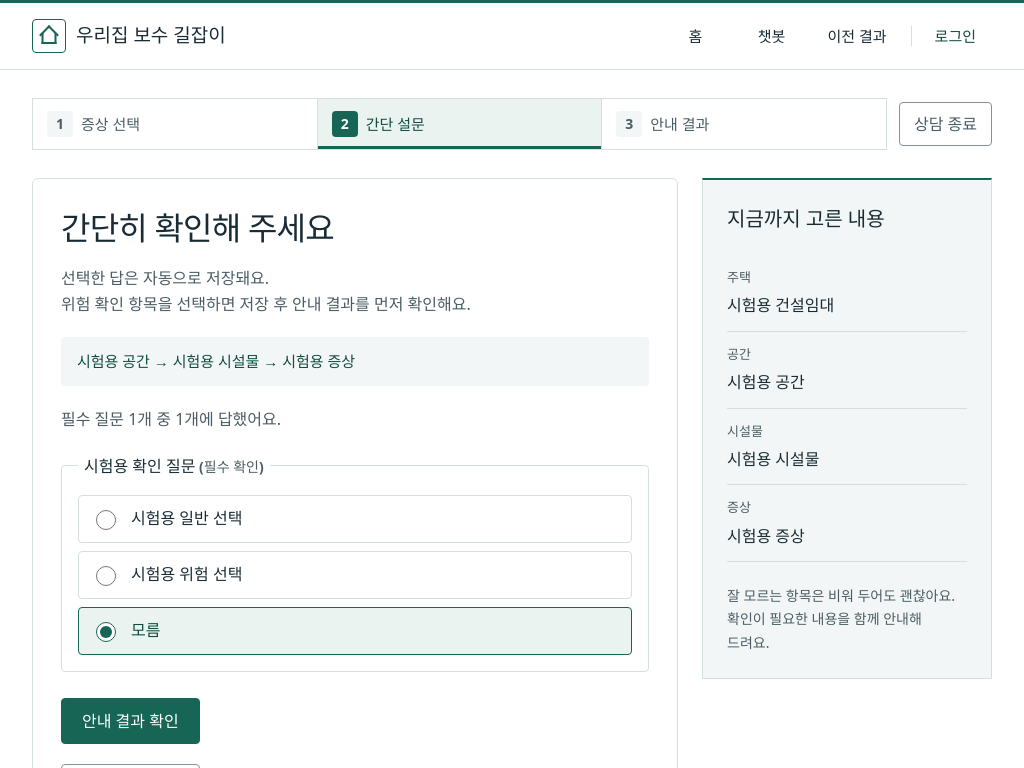
Test case: evaluates interruptValues only after the answer save succeeds
Click the radio button labelled "시험용 위험 선택" at (106, 576), box [96,566,116,586]
(page scrolled)
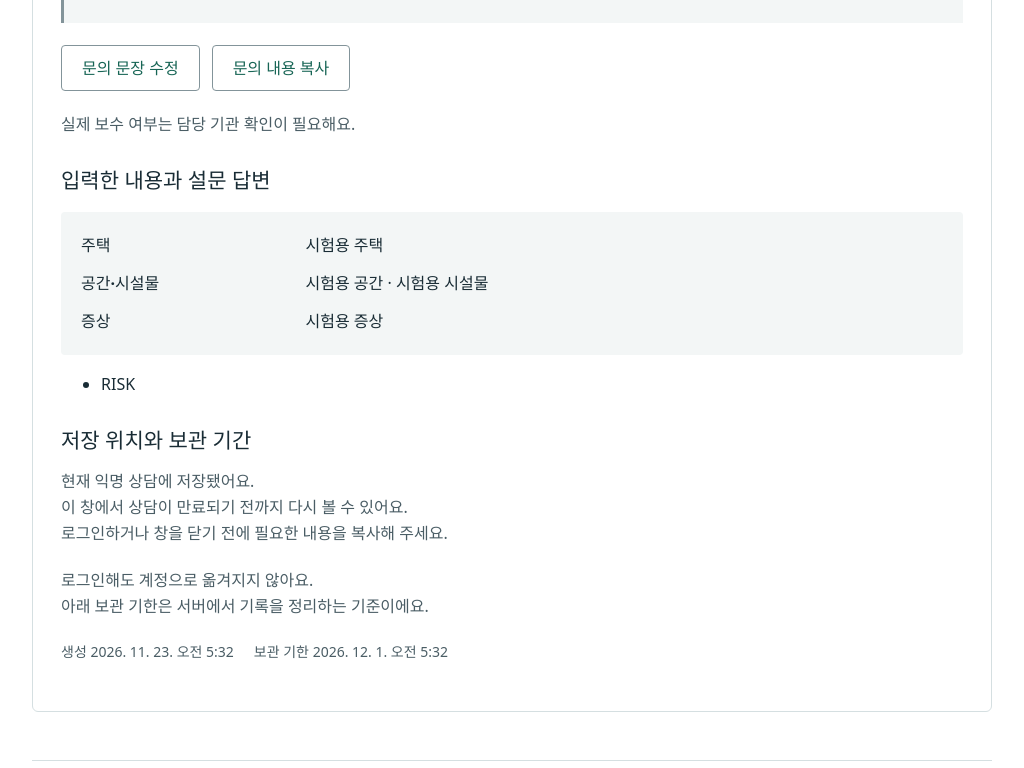
Check: the list item "RISK" is shown, box [101,373,135,395]
